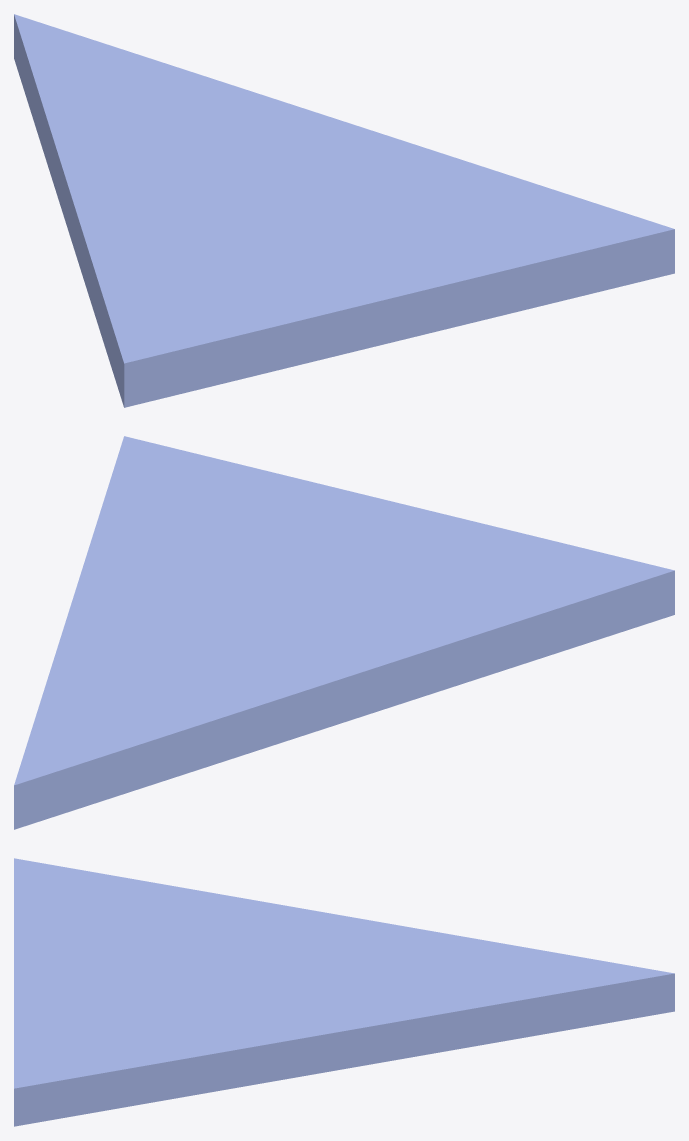
The model's file is triangolo_isoscele_grande.glb.
The picture shows the model from 3 angles, top to bottom: view 1: azimuth 30°, elevation 25°; view 2: azimuth 150°, elevation 25°; view 3: azimuth 270°, elevation 25°; orthographic projection. The views are drawn at different scales.
Parts seen in each view (by area): view 1: Cilindro; view 2: Cilindro; view 3: Cilindro.
Part boxes in pixels (box(x1,y1,x2,y2)): Cilindro: box(14, 14, 674, 407); Cilindro: box(14, 436, 674, 829); Cilindro: box(14, 858, 674, 1126).
Size of the model in its own units: 1.04 by 0.08 by 1.26.
